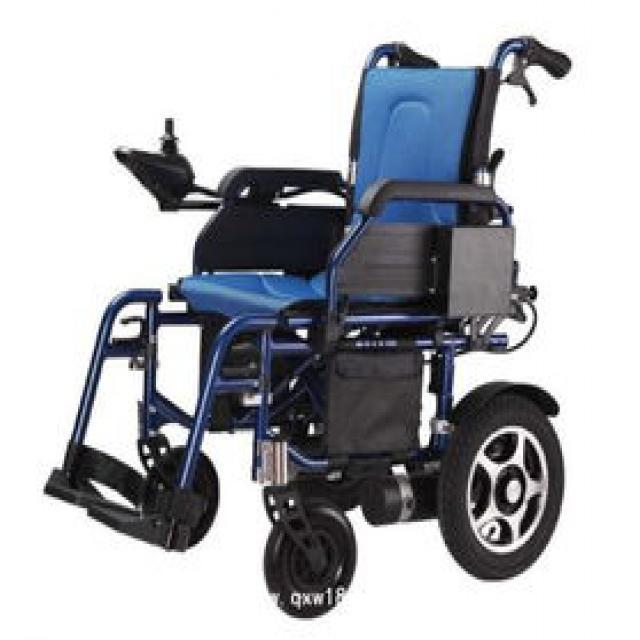wheelchair: (48, 24, 580, 620)
